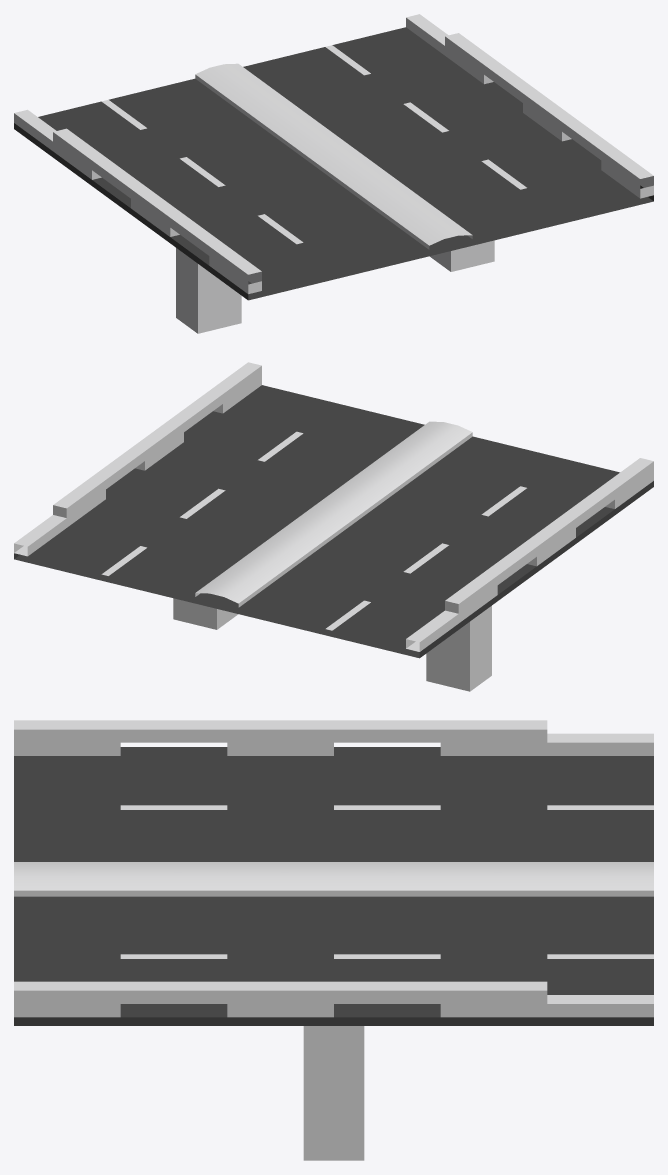
File: linear-highway-piece.fbx
The picture shows the model from 3 angles, top to bottom: view 1: azimuth 30°, elevation 25°; view 2: azimuth 150°, elevation 25°; view 3: azimuth 270°, elevation 25°; orthographic projection. The views are drawn at different scales.
Parts seen in each view (by area): view 1: linear-highway-piece; view 2: linear-highway-piece; view 3: linear-highway-piece.
Boxes of the visible parts, x1,y1,x2,y2 form: linear-highway-piece: (14,14,653,333); linear-highway-piece: (14,362,653,691); linear-highway-piece: (14,720,653,1160).
Size of the model in its own units: 18.35 by 6.5 by 18.35.
